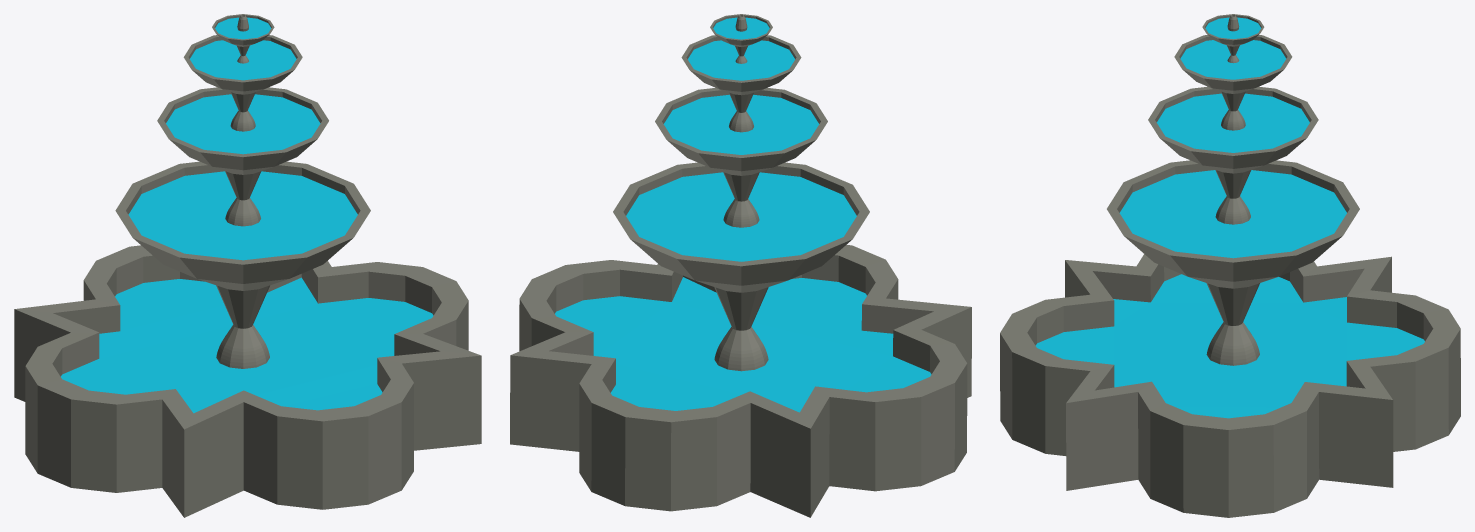
File: Fountain.fbx
The picture shows the model from 3 angles, left to right: view 1: azimuth 30°, elevation 25°; view 2: azimuth 150°, elevation 25°; view 3: azimuth 270°, elevation 25°; orthographic projection.
Visible parts, largest first — view 1: Circle; view 2: Circle; view 3: Circle.
Boxes of the visible parts, x1,y1,x2,y2 form: Circle: [14, 14, 481, 517]; Circle: [510, 14, 971, 517]; Circle: [1000, 14, 1460, 517].
Size of the model in its own units: 865 by 798 by 830.
